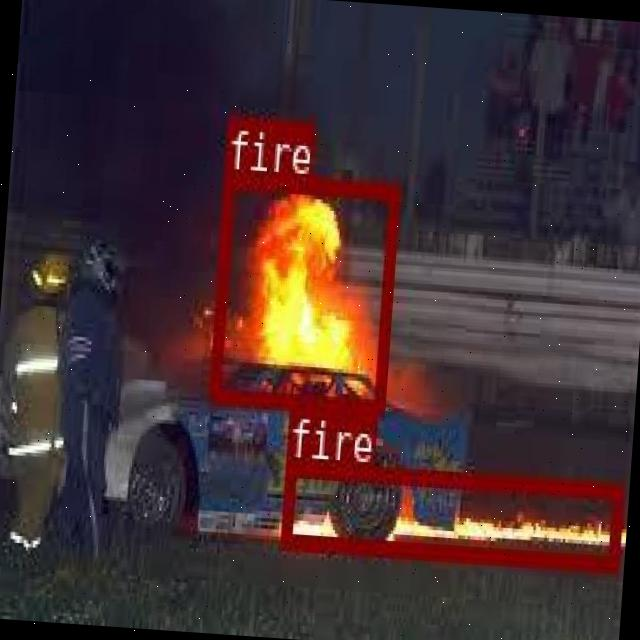fire: (206, 170, 398, 412), (280, 458, 622, 570)
